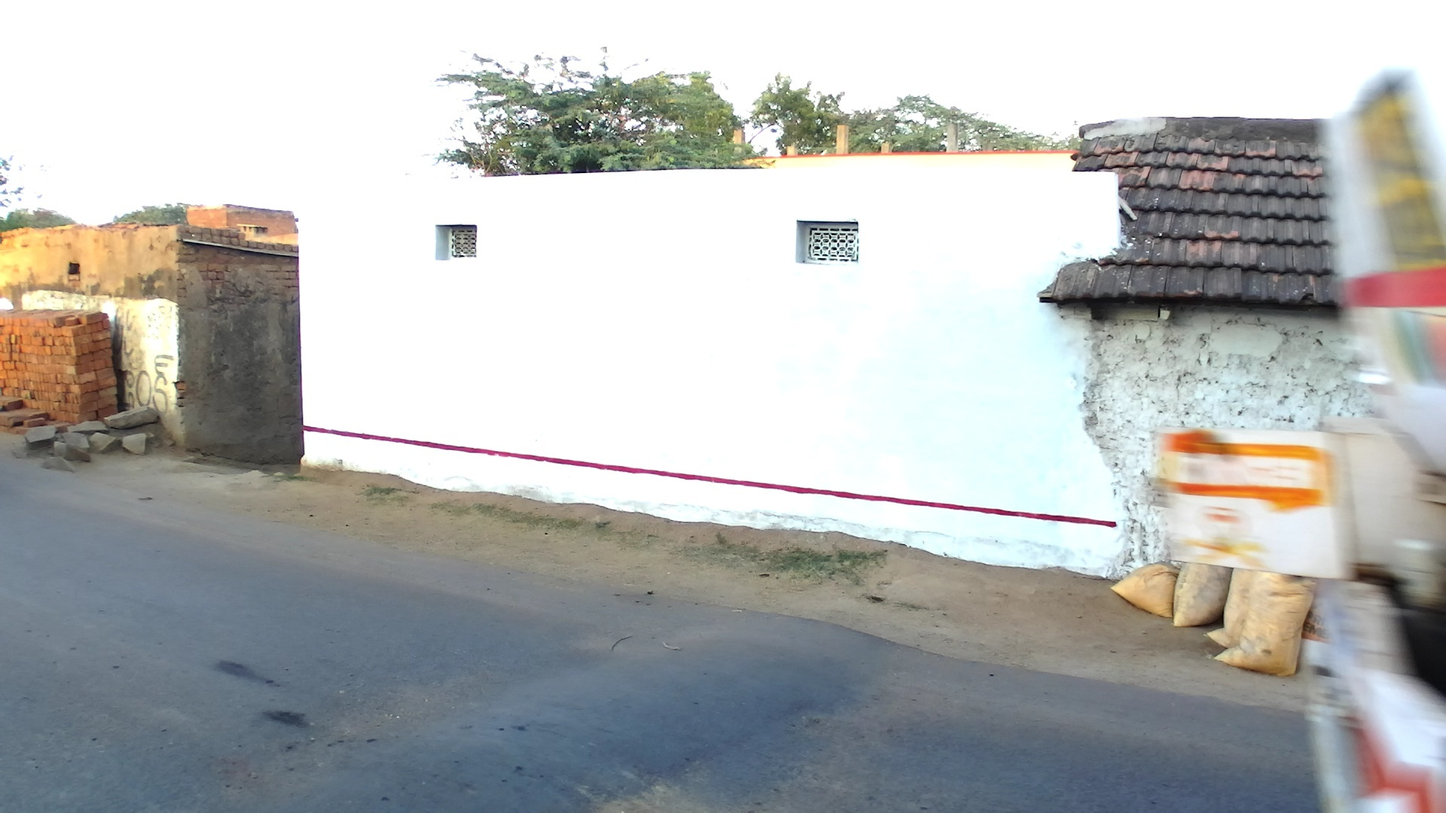vehicle fallback: (1163, 39, 1446, 813)
